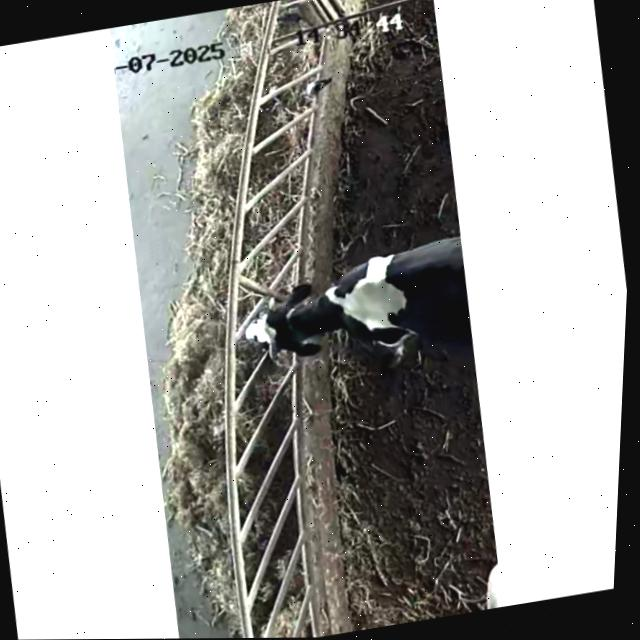eat: (167, 233, 420, 401)
